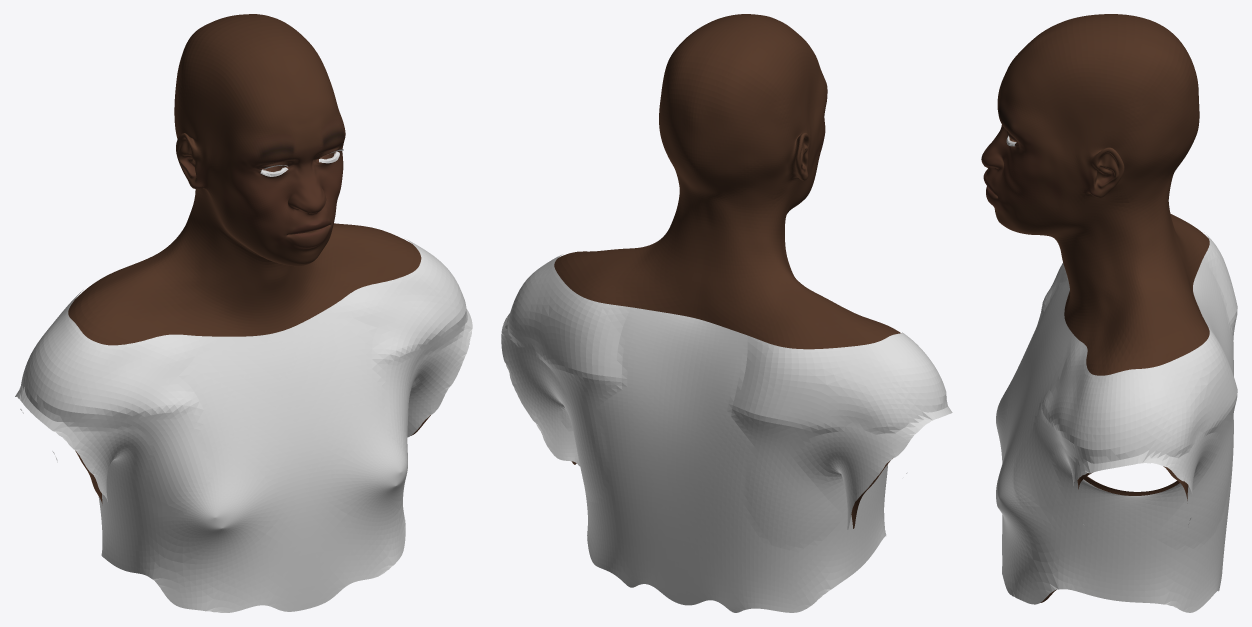
The model's file is hd_m_dark.glb.
The picture shows the model from 3 angles, left to right: view 1: azimuth 30°, elevation 25°; view 2: azimuth 150°, elevation 25°; view 3: azimuth 270°, elevation 25°; orthographic projection.
Visible parts, largest first — view 1: top, skin; view 2: top, skin; view 3: top, skin.
Boxes of the visible parts, left/top/right/bottom form: top: left=15, top=239, right=472, bottom=612; skin: left=68, top=14, right=430, bottom=503; top: left=501, top=254, right=952, bottom=612; skin: left=554, top=14, right=900, bottom=528; top: left=996, top=232, right=1237, bottom=612; skin: left=981, top=14, right=1209, bottom=602.
Size of the model in its own units: 0.4739 by 0.5689 by 0.2415.
